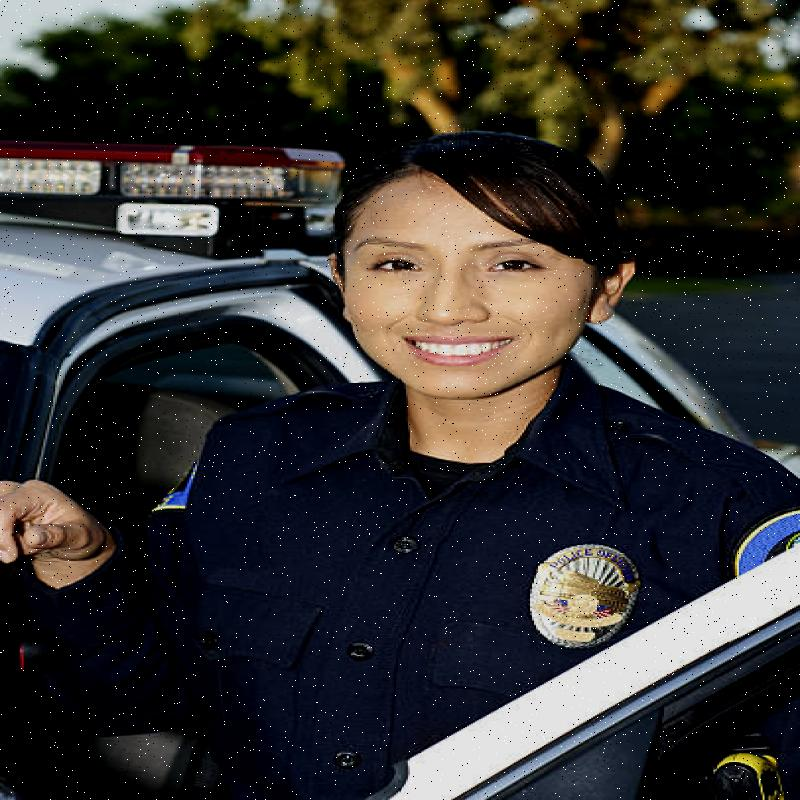AmbulanceSiren: (0, 115, 361, 264)
